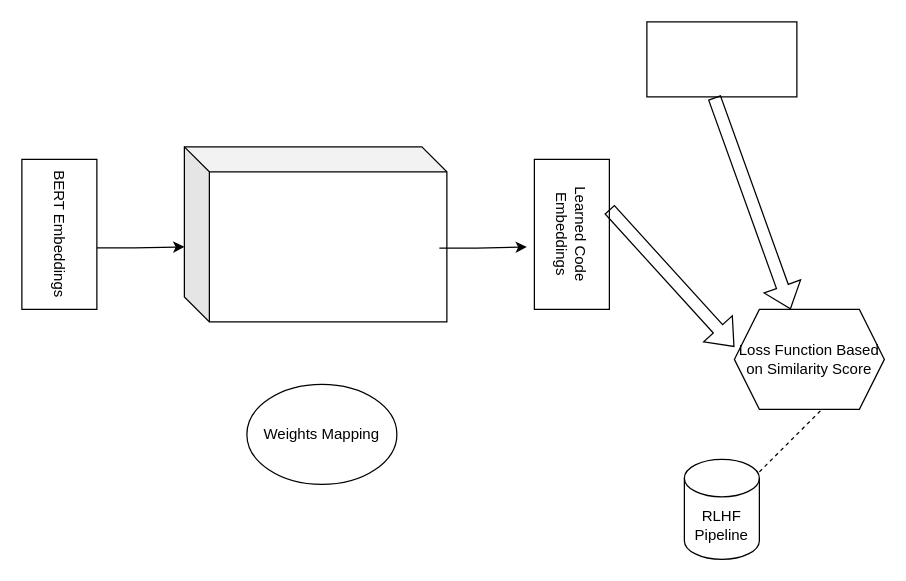
Image size: 906x581. Some labels were removed from this diagram. The centre of each missing label's shape, as x and y in pixels:
CodeBERT Embeddings: point (721, 59)
Deep Network: point (315, 234)
